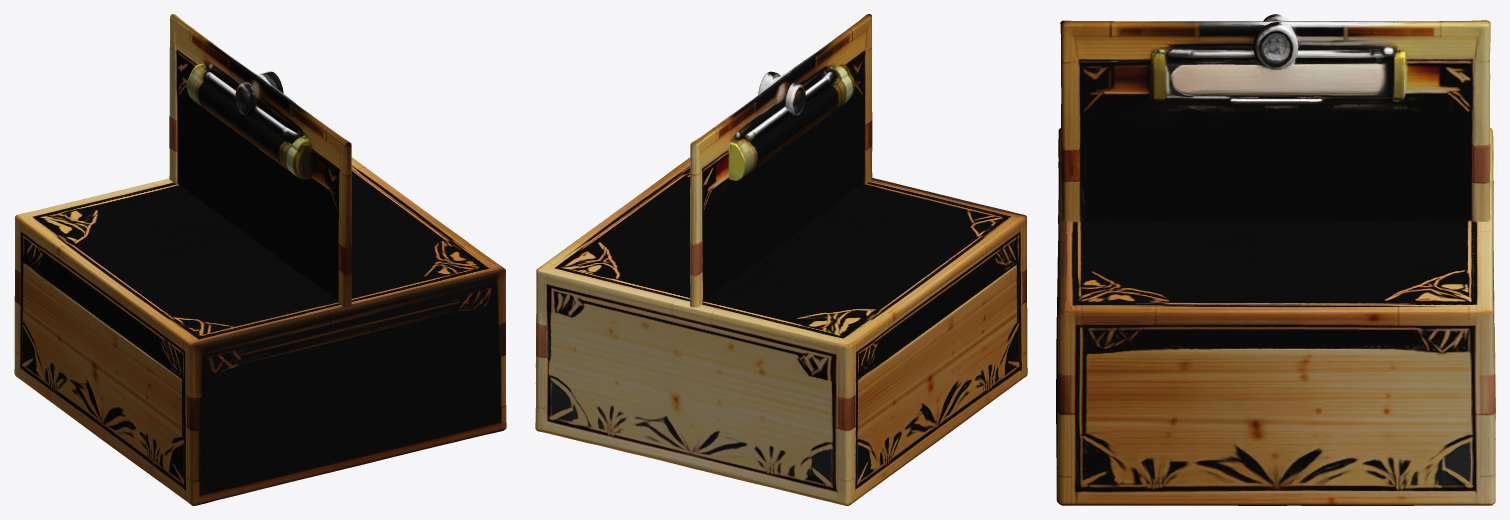
Rendered from bamboo-clipboard-art-deco.jpeg.glb.
3 views of the same model, side by side, from view 1: azimuth 30°, elevation 25°; view 2: azimuth 150°, elevation 25°; view 3: azimuth 270°, elevation 25° (orthographic). The views are drawn at different scales.
Visible parts, largest first — view 1: world; view 2: world; view 3: world.
Part boxes in pixels (<box>): world: <box>14,14,506,505</box>; world: <box>535,14,1027,505</box>; world: <box>1056,14,1495,505</box>.
Size of the model in its own units: 1 by 0.9958 by 0.9994.
Materials: 1 (1 with a texture image).
